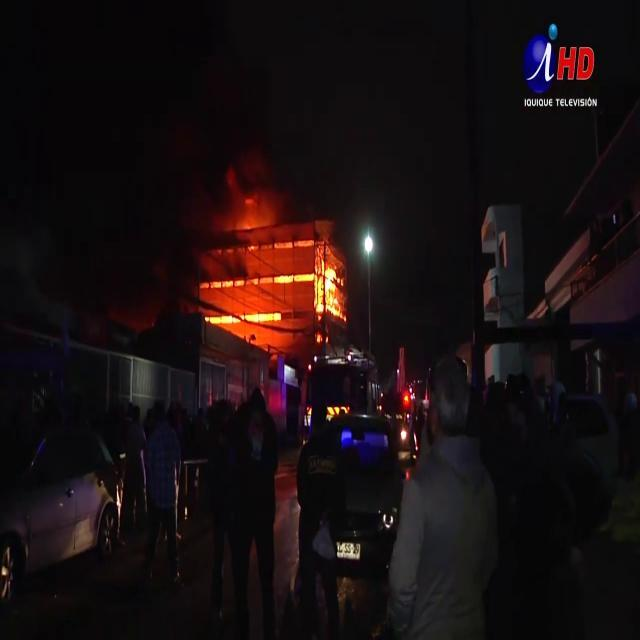Fire: (312, 246, 346, 326)
